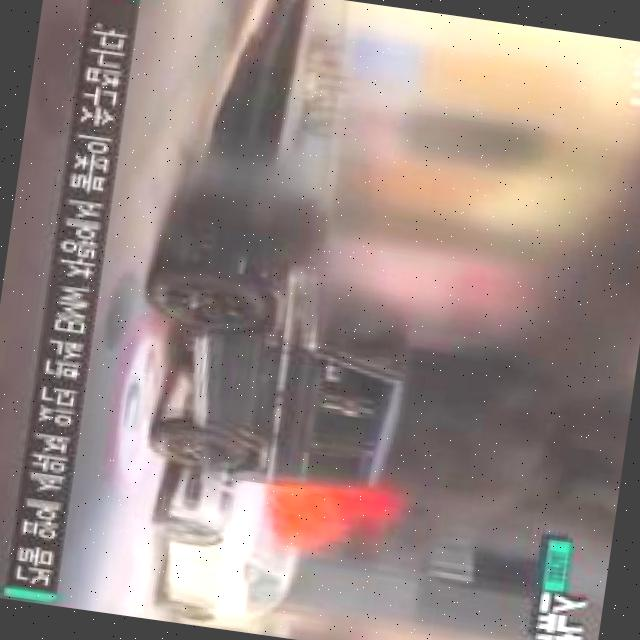fire: (255, 465, 405, 564)
